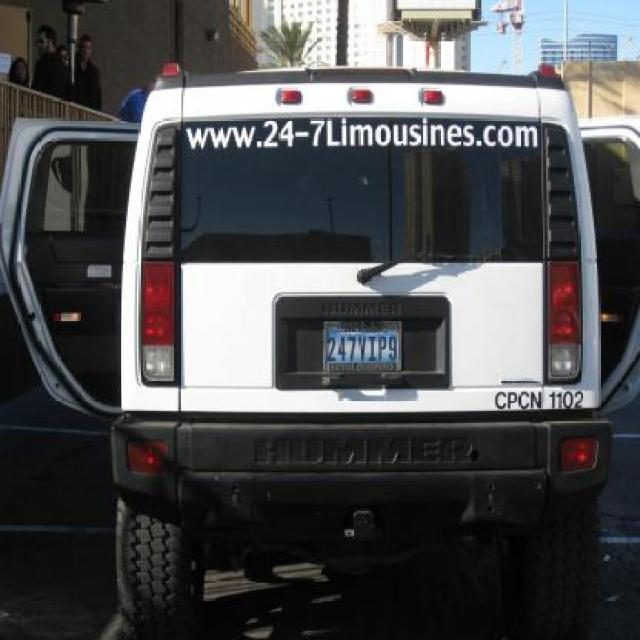License-Plates: (323, 320, 402, 371)
